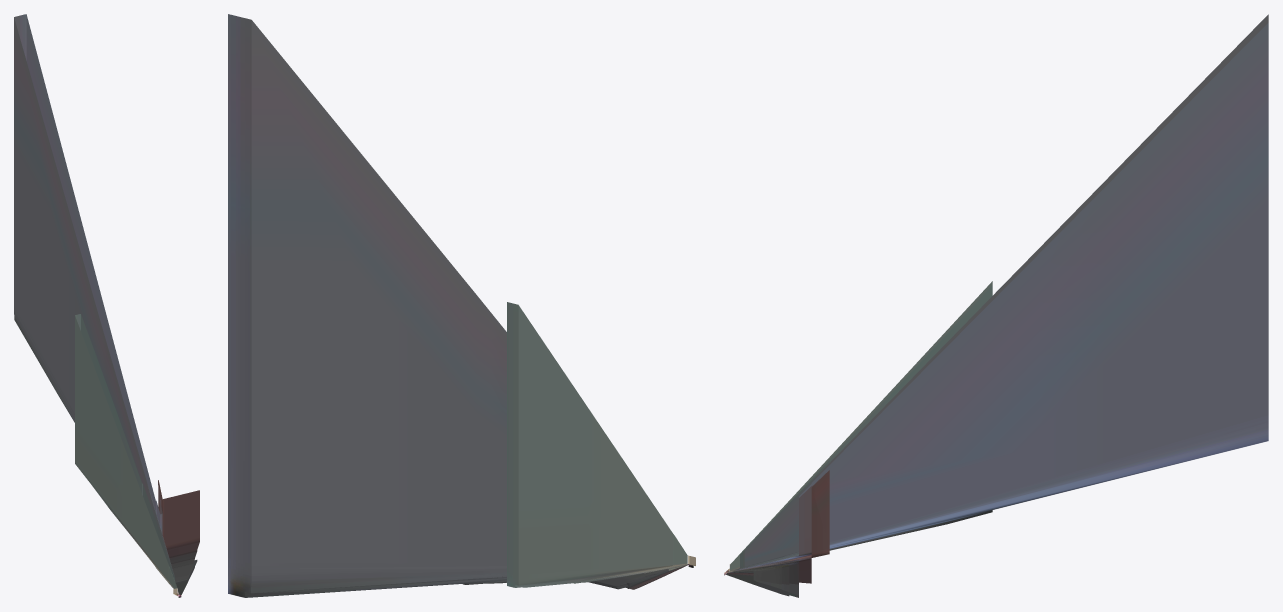
3 views of the same model, side by side, from view 1: azimuth 30°, elevation 25°; view 2: azimuth 150°, elevation 25°; view 3: azimuth 270°, elevation 25° (orthographic). The views are drawn at different scales.
Bounding box in the file's own units: 44.19 × 306 × 259.
2 materials, 2 textured.
